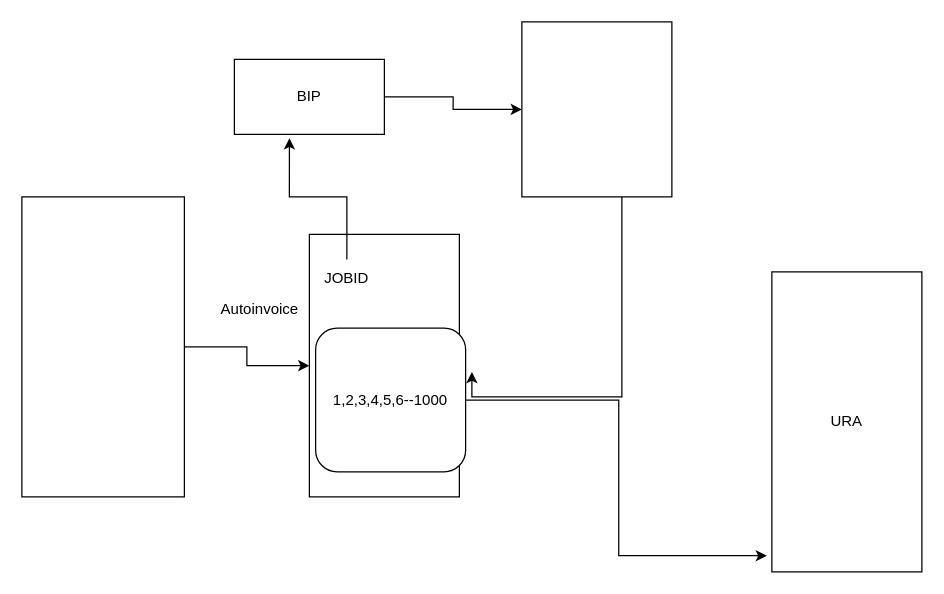
This 944x594 diagram has some shape labels left out. Here are the shapes that lost their labels. From the top down, the centre of each, then its label:
At (x=596, y=109): "UCM".
At (x=102, y=346): "FUSION".
